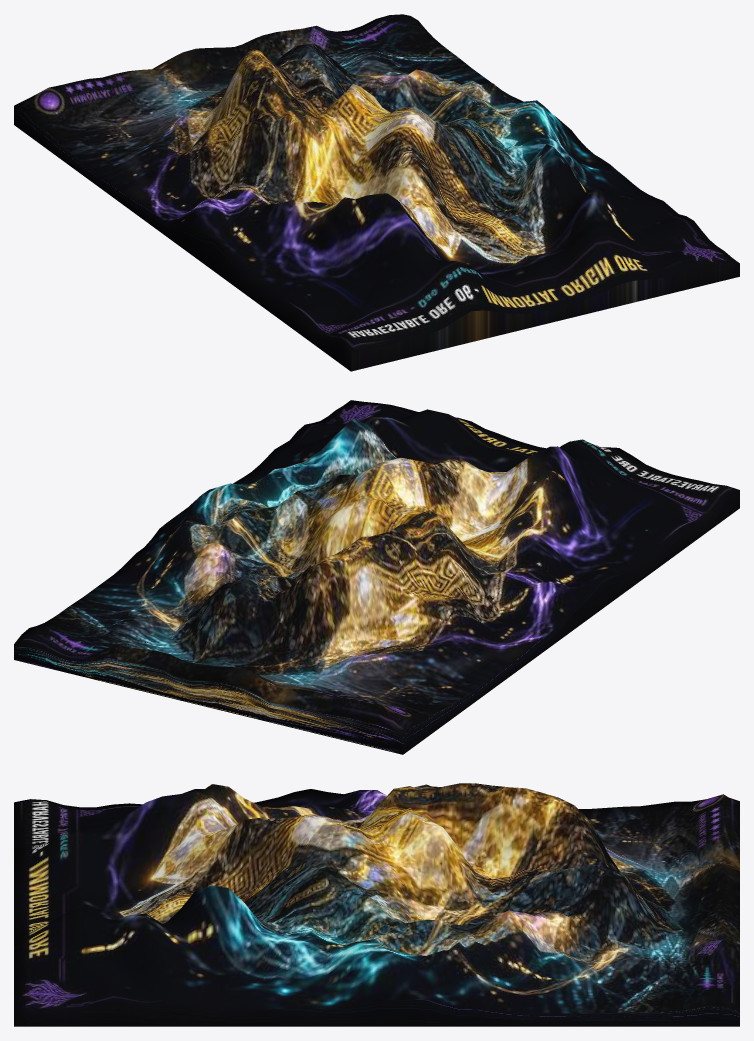
File: ORE_06_Immortal_Origin_Ore.glb
3 renders of one model, top to bottom at view 1: azimuth 30°, elevation 25°; view 2: azimuth 150°, elevation 25°; view 3: azimuth 270°, elevation 25°, orthographic. The views are drawn at different scales.
Visible parts, largest first — view 1: ORE_06_Immortal_Origin_Ore; view 2: ORE_06_Immortal_Origin_Ore; view 3: ORE_06_Immortal_Origin_Ore.
Boxes of the visible parts, x1,y1,x2,y2 form: ORE_06_Immortal_Origin_Ore: [14, 14, 739, 371]; ORE_06_Immortal_Origin_Ore: [14, 400, 739, 754]; ORE_06_Immortal_Origin_Ore: [14, 783, 739, 1026].
Size of the model in its own units: 2 by 0.51 by 3.
Materials: 1 (1 with a texture image).
